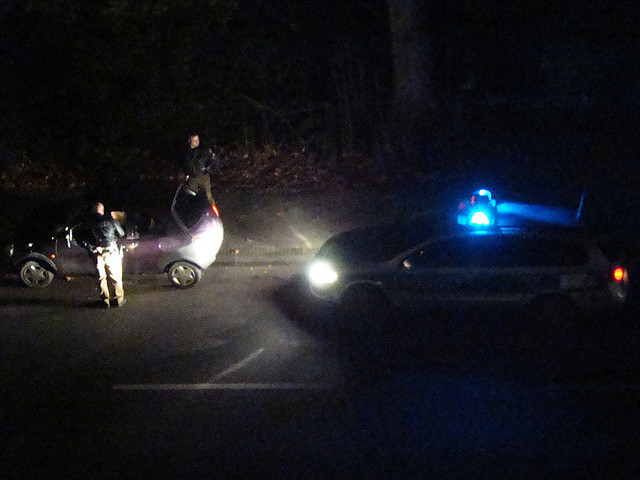car: (301, 181, 636, 348)
